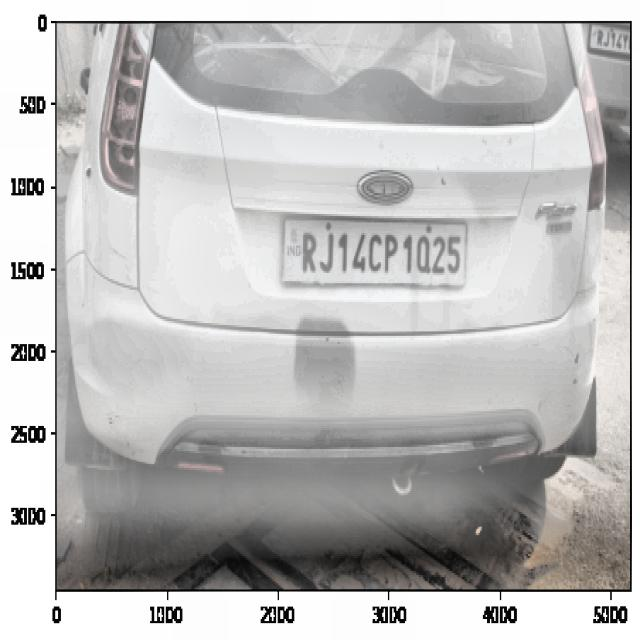license_plate: (298, 228, 466, 290)
